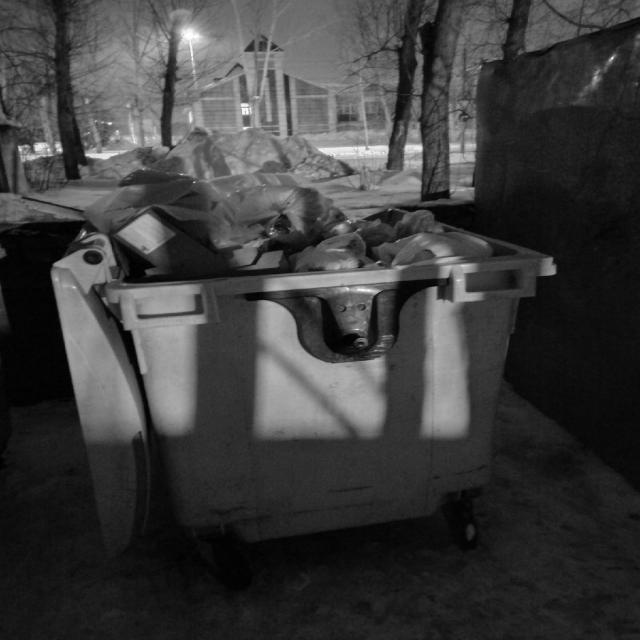Trashcan: (49, 153, 593, 580)
